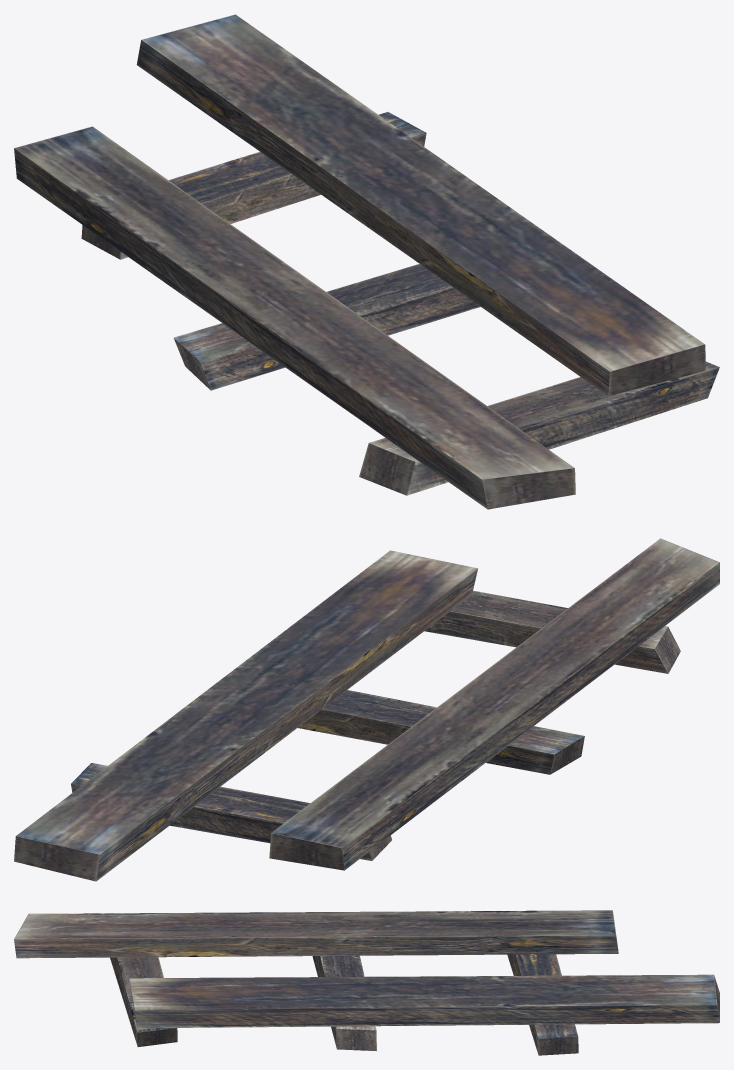
The model's file is m_way12.glb.
3 renders of one model, top to bottom at view 1: azimuth 30°, elevation 25°; view 2: azimuth 150°, elevation 25°; view 3: azimuth 270°, elevation 25°, orthographic. The views are drawn at different scales.
Visible parts, largest first — view 1: m_way12; view 2: m_way12; view 3: m_way12.
Boxes of the visible parts, box(x1,y1,x2,y2) form: m_way12: box(14, 14, 719, 509); m_way12: box(14, 538, 719, 881); m_way12: box(14, 910, 719, 1055).
Bounding box in the file's own units: 1.49 × 0.2002 × 3.52.
Materials: 1 (1 with a texture image).
